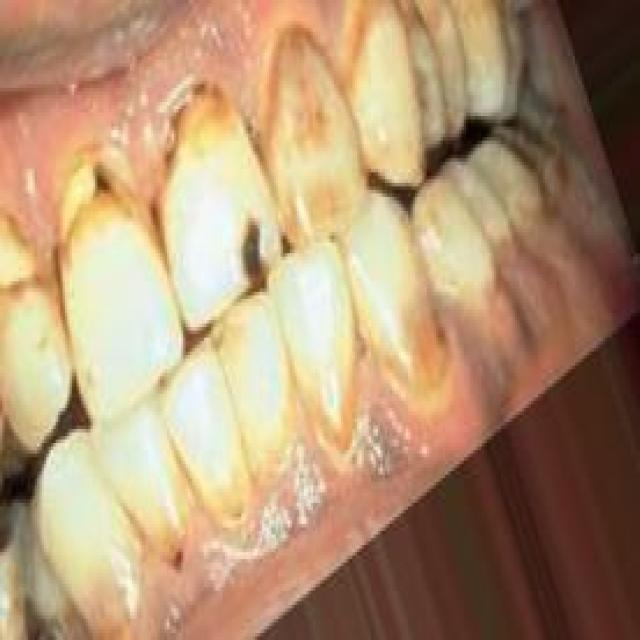caries: (46, 133, 146, 260), (155, 78, 215, 178), (224, 211, 282, 299)
